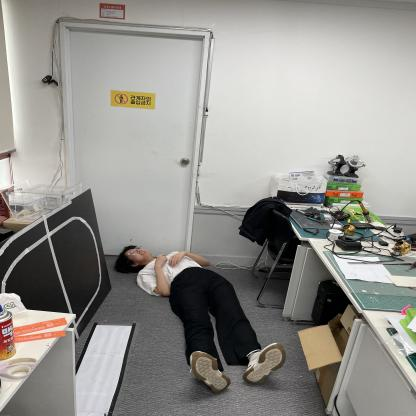fall: (115, 238, 292, 388)
